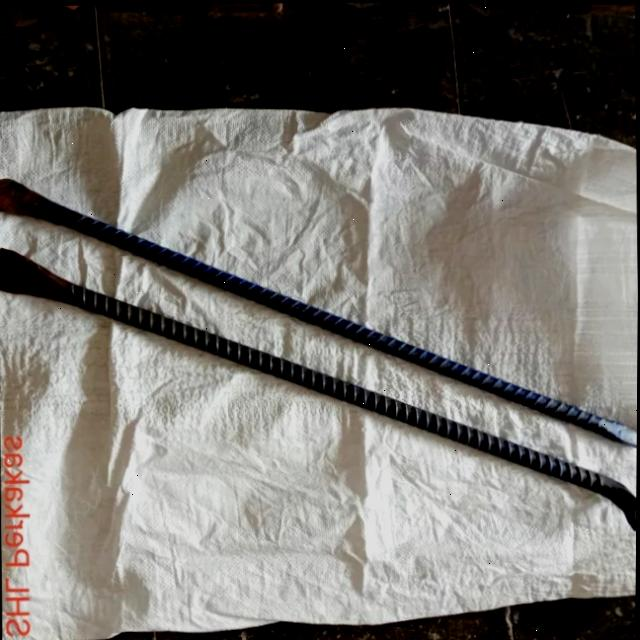crow bar: (0, 241, 637, 540), (0, 167, 638, 447)
